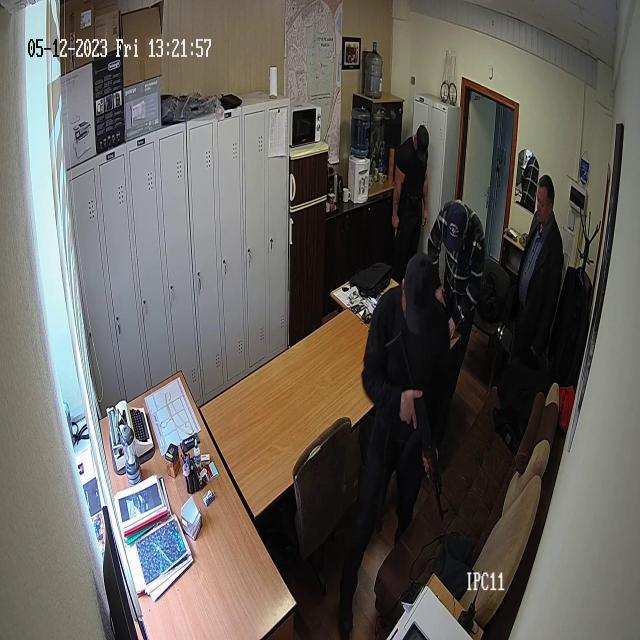gun: (362, 242, 453, 546), (429, 181, 490, 338), (513, 168, 576, 300), (410, 376, 451, 524), (389, 129, 435, 234)
